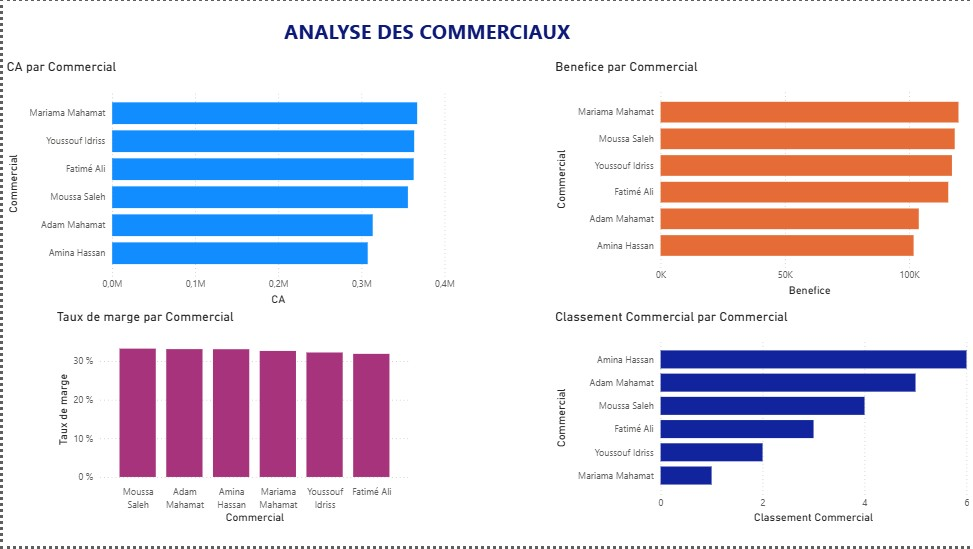

The dashboard page shown, as its layout file describes it:
{"tool":"powerbi","page":{"name":"analyse des commerciaux","canvas":[1280,720],"ordinal":2},"visuals":[{"type":"clusteredBarChart","fields":{"Category":["Dim_Commercial.Commercial"],"Y":["Fact_Ventes.CA"]},"box":[0,75,601.7,330],"z":0},{"type":"barChart","fields":{"Category":["Dim_Commercial.Commercial"],"Y":["Fact_Ventes.Benefice"]},"box":[723.3,75,556.7,318.3],"z":1000},{"type":"columnChart","fields":{"Y":["Fact_Ventes.Taux de marge"],"Category":["Dim_Commercial.Commercial"]},"box":[65,406.7,475,288.3],"z":2000},{"type":"barChart","fields":{"Category":["Dim_Commercial.Commercial"],"Y":["Dim_Commercial.Classement Commercial"]},"box":[723.3,406.7,556.7,288.3],"z":3000},{"type":"textbox","box":[365,15,406.7,60],"z":4000}]}

Visuals, with their boxes in screenshot pixels (x1, y1, x2, y2), scaled from the page's 1280x720 canvas onto the 973x549 screenshot:
clusteredBarChart - Dim_Commercial.Commercial x Fact_Ventes.CA: x1=0 y1=57 x2=457 y2=309
barChart - Dim_Commercial.Commercial x Fact_Ventes.Benefice: x1=550 y1=57 x2=972 y2=300
columnChart - Fact_Ventes.Taux de marge x Dim_Commercial.Commercial: x1=49 y1=310 x2=410 y2=530
barChart - Dim_Commercial.Commercial x Dim_Commercial.Classement Commercial: x1=550 y1=310 x2=972 y2=530
textbox: x1=277 y1=11 x2=587 y2=57
